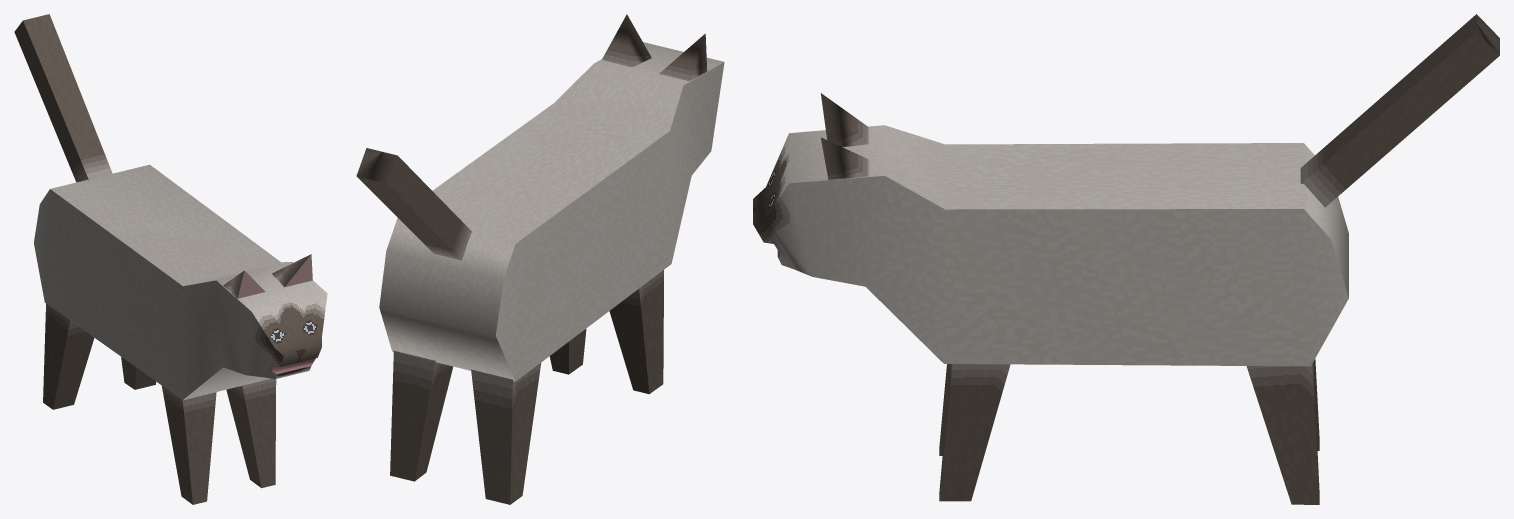
File: 01fc_Siamese_Cat.glb
3 renders of one model, left to right at view 1: azimuth 30°, elevation 25°; view 2: azimuth 150°, elevation 25°; view 3: azimuth 270°, elevation 25°, orthographic. The views are drawn at different scales.
Visible parts, largest first — view 1: part_0; view 2: part_0; view 3: part_0.
Boxes of the visible parts, x1,y1,x2,y2 form: part_0: [14, 14, 327, 504]; part_0: [356, 14, 724, 504]; part_0: [753, 14, 1499, 504].
Size of the model in its own units: 0.1266 by 0.3829 by 0.5742.
Materials: 1 (1 with a texture image).
